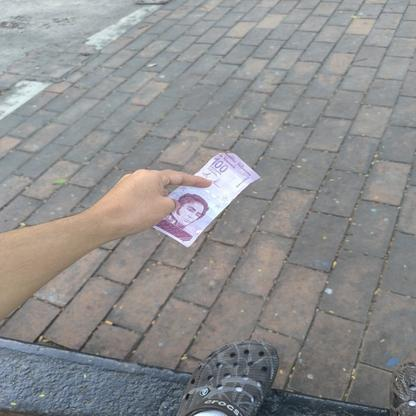one_hundred-front-vef: (151, 151, 261, 248)
